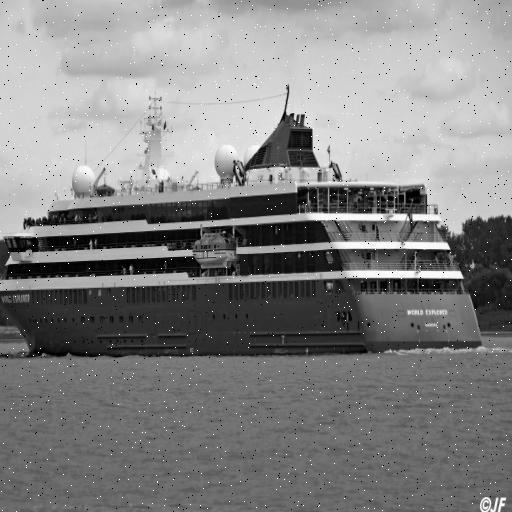cruises: (1, 84, 486, 362)
